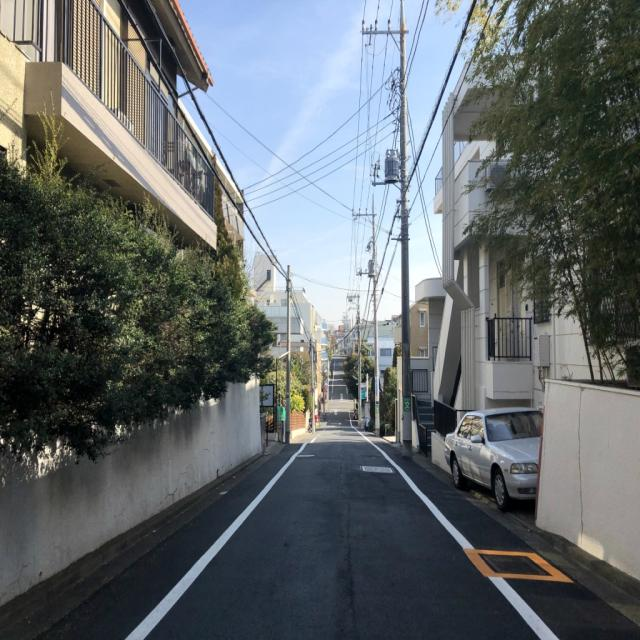Clean road: (2, 400, 640, 640)
